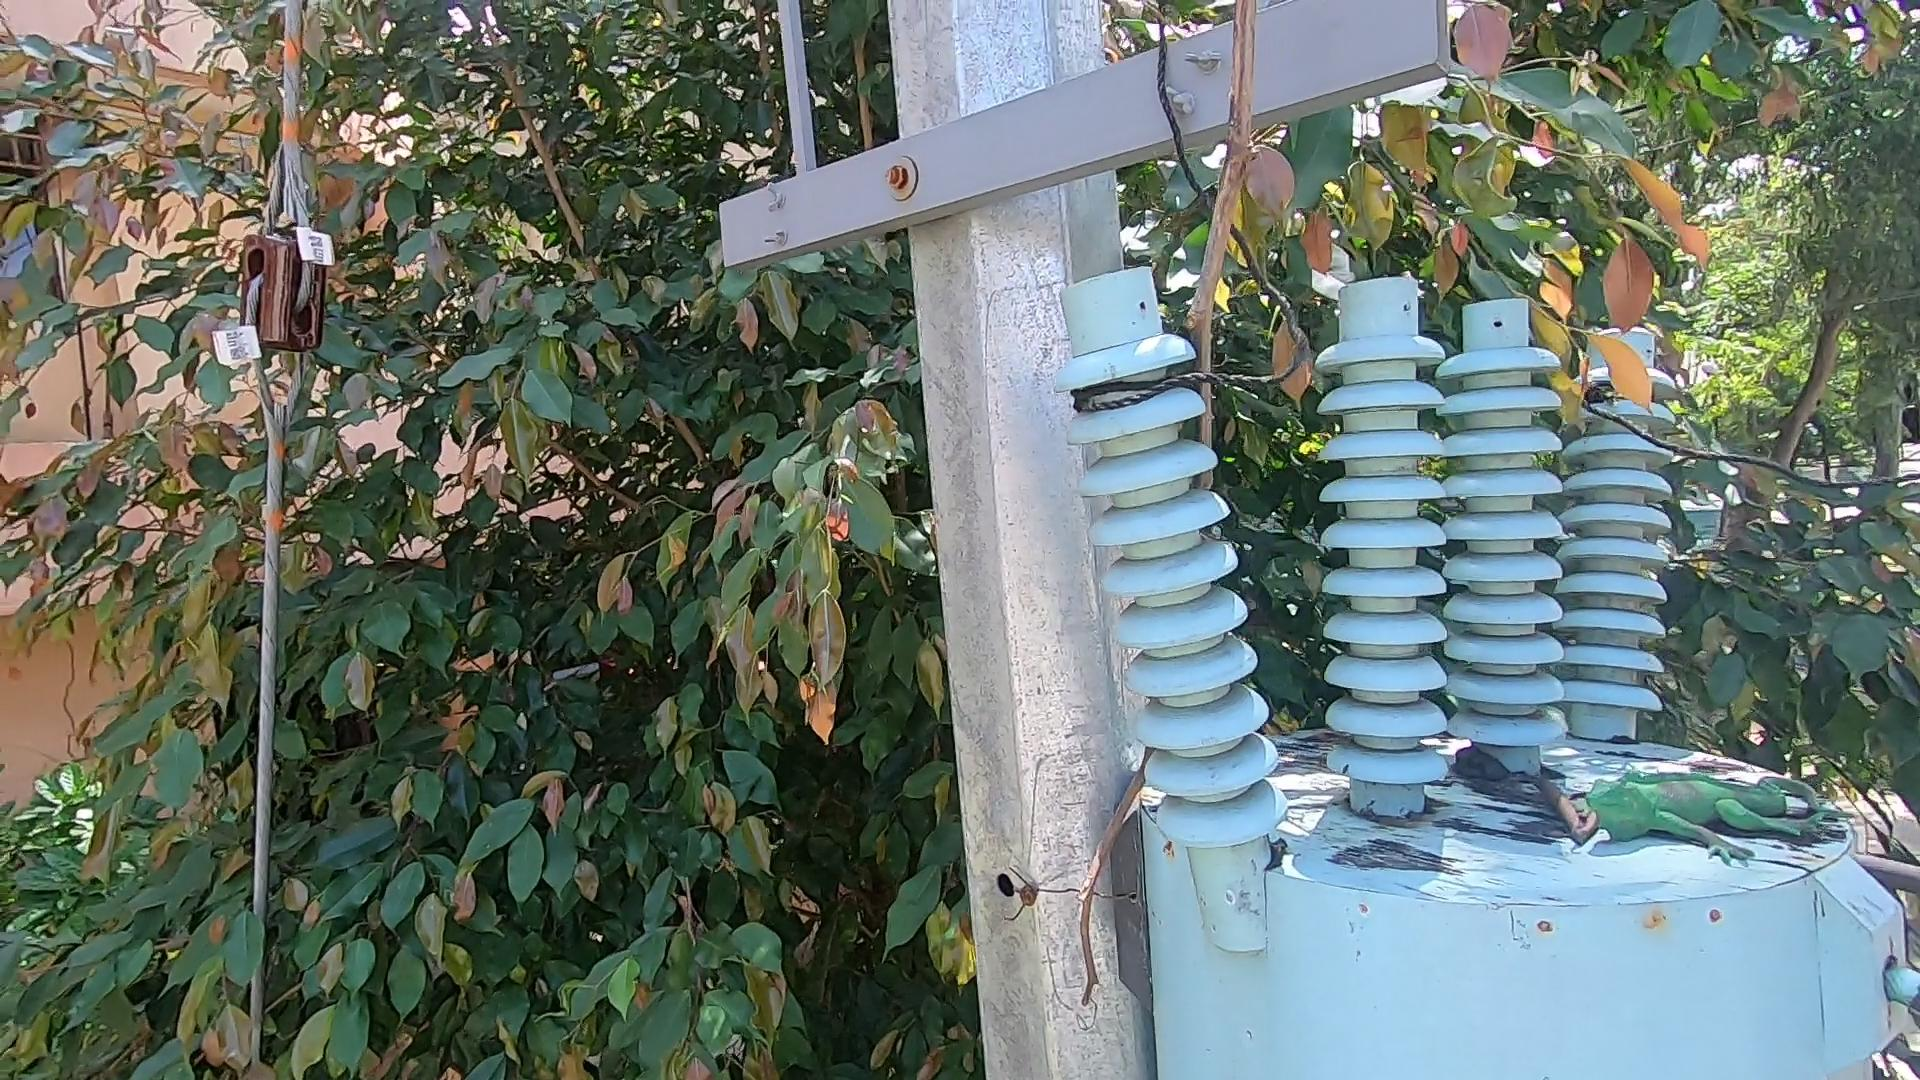branch with leaves: (1487, 305, 1672, 452)
leaf: (1520, 760, 1596, 847), (1449, 741, 1515, 793)
tree branch: (1035, 3, 1229, 993)
